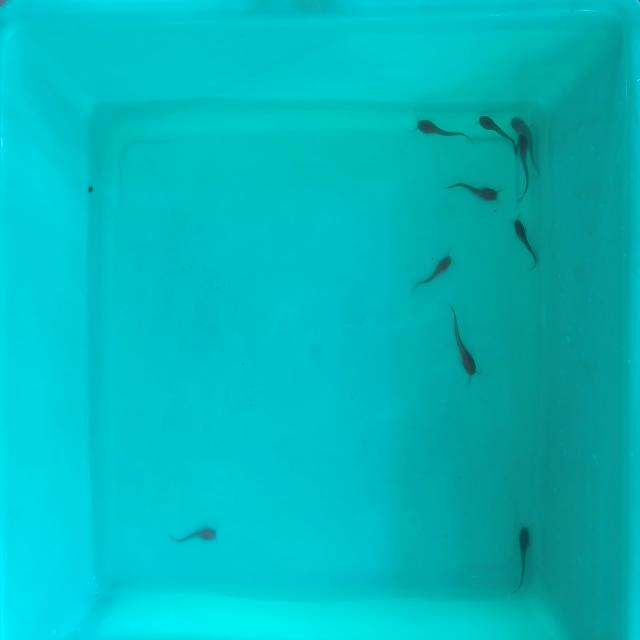lele: (476, 113, 520, 157), (452, 307, 478, 376), (414, 116, 474, 145), (511, 113, 546, 160), (413, 254, 456, 292), (443, 180, 500, 207), (511, 218, 538, 274), (169, 524, 221, 543), (515, 526, 530, 591), (518, 135, 530, 201)
